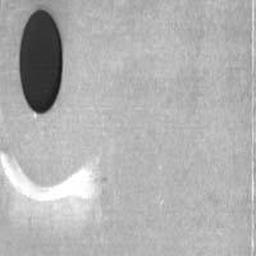Punching: (18, 8, 64, 114)
